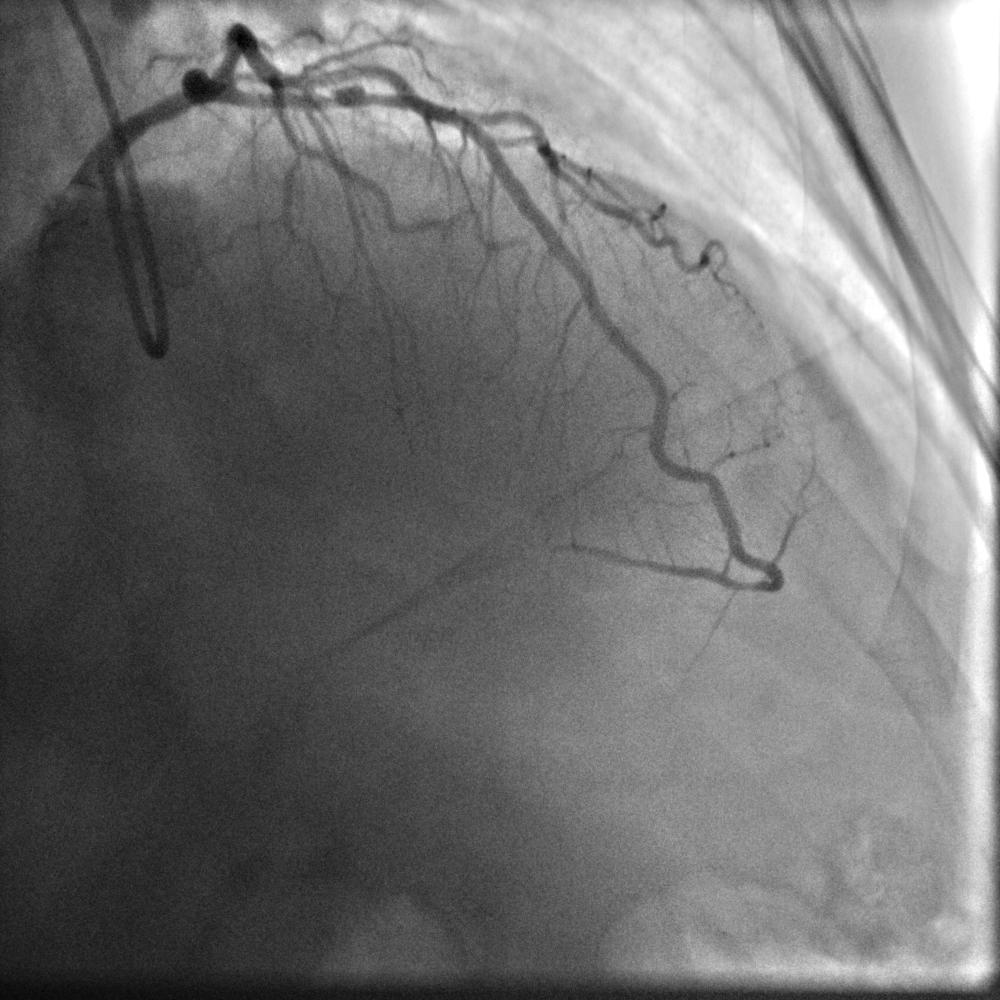Stenosis: (320, 88, 343, 108)
